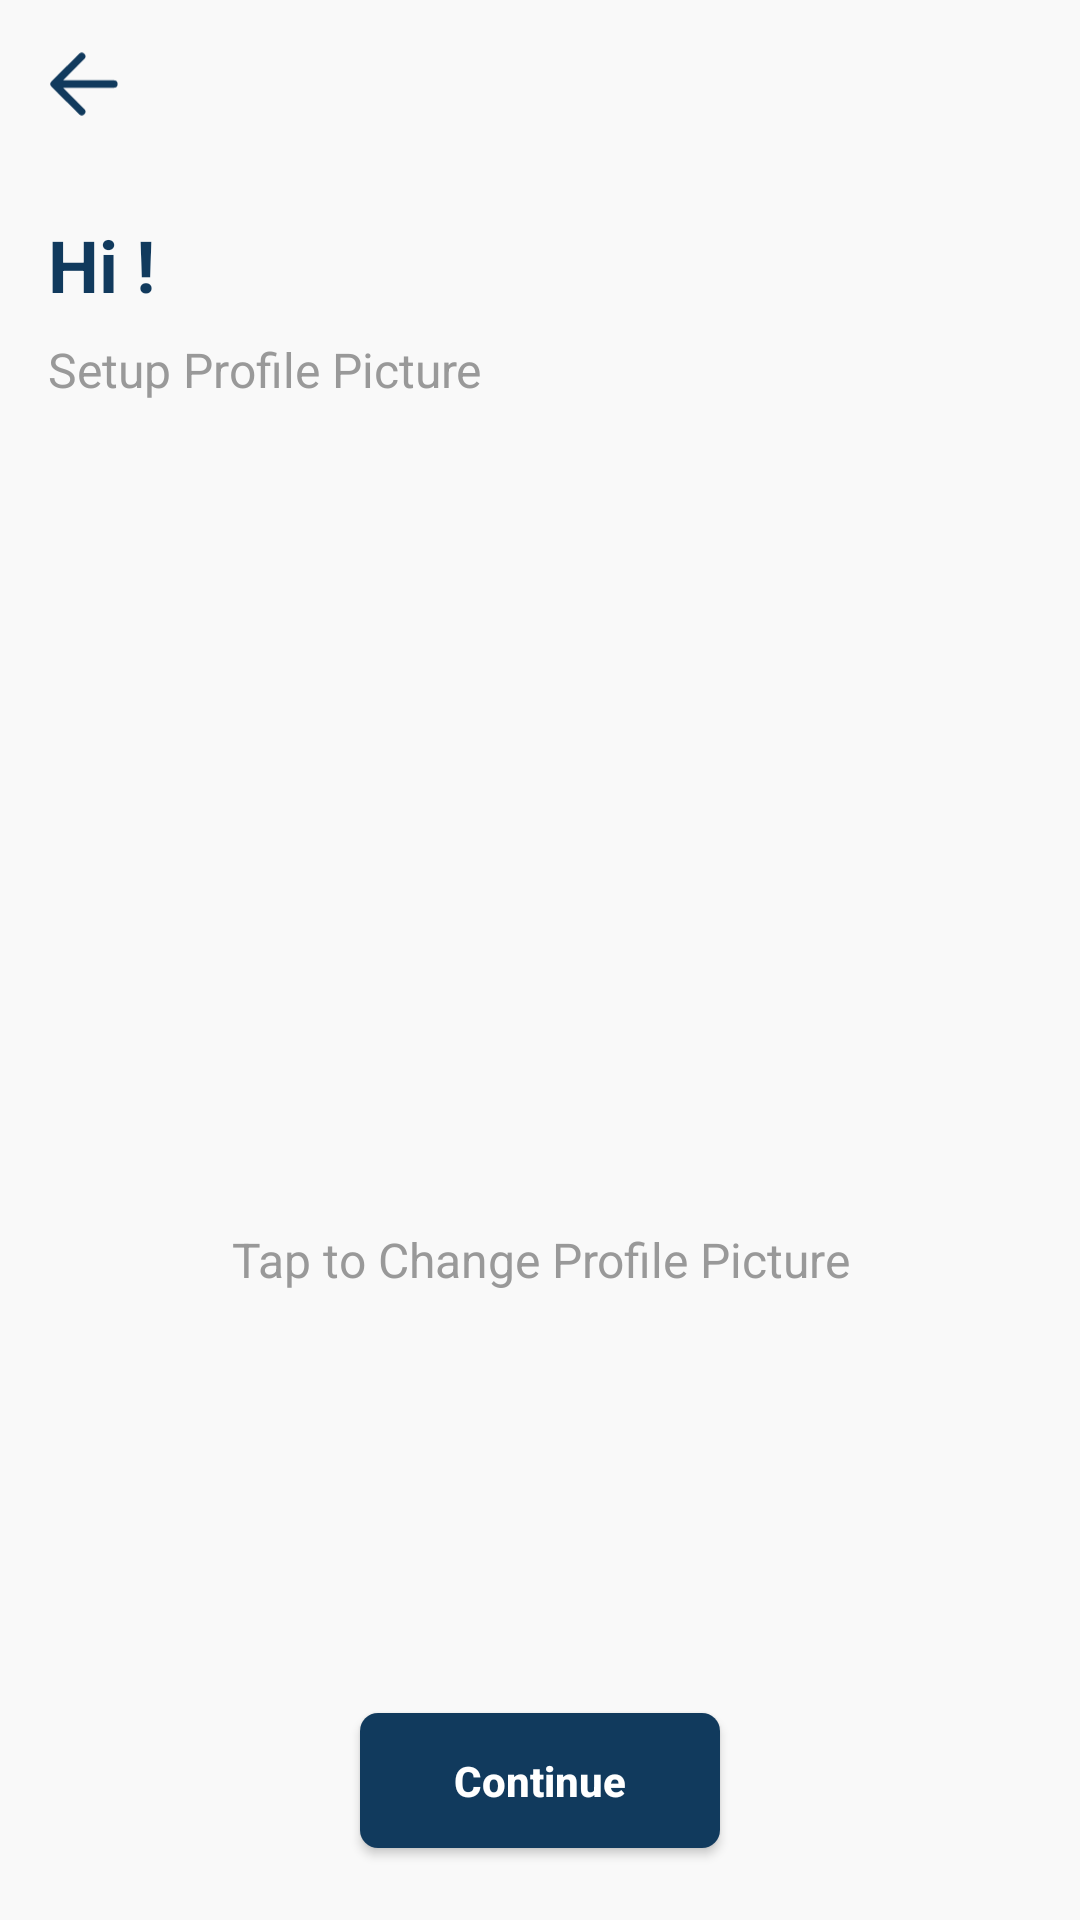

Where icons sit on this 1080*1920 app screen, as region(x1, y1, x2, y2):
back arrow: region(50, 52, 118, 116)
